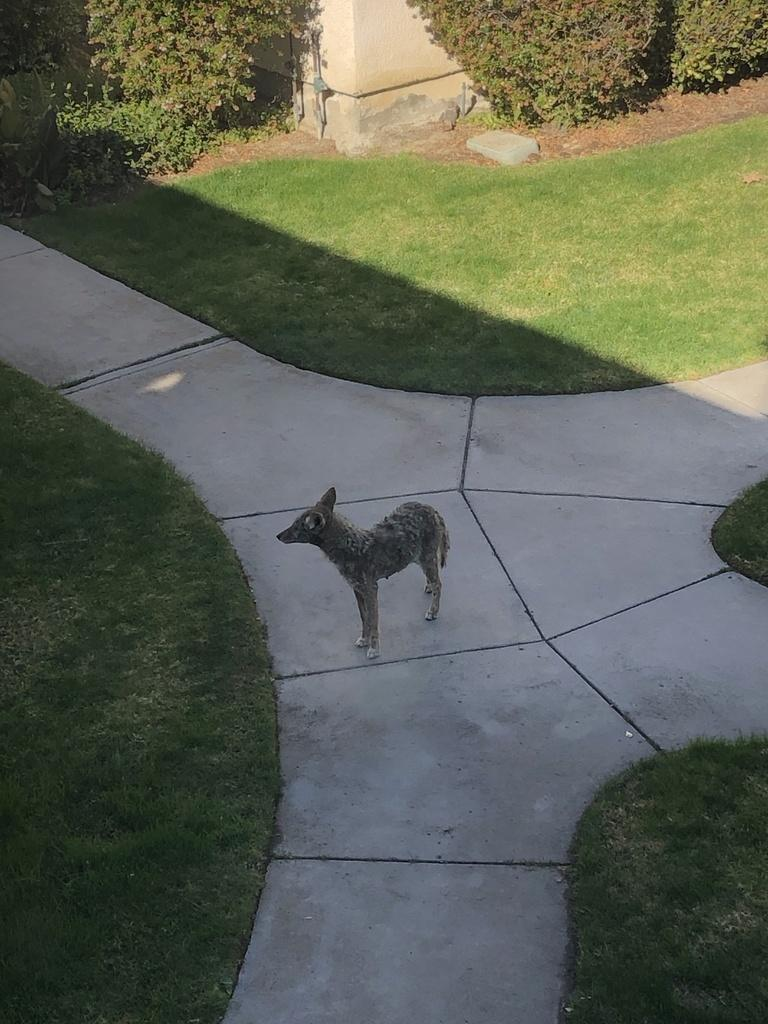Coyote: (274, 486, 456, 660)
